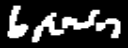brown: (0, 0, 128, 48)
